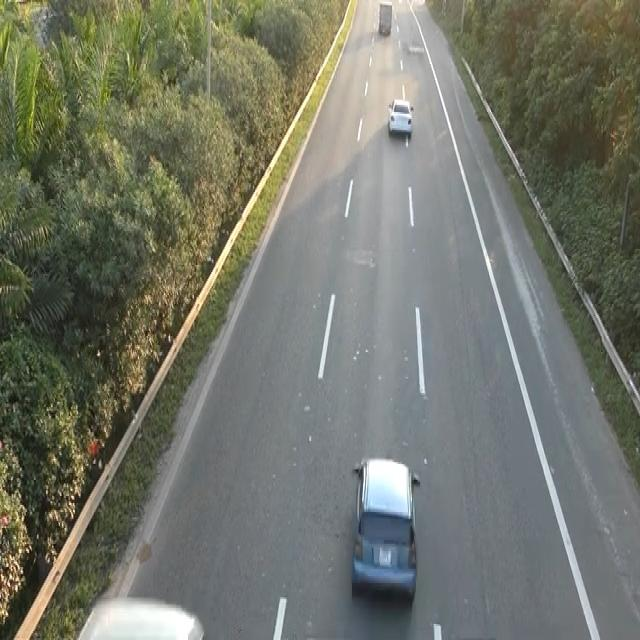bus: (348, 450, 422, 602)
minivan: (377, 0, 393, 36)
